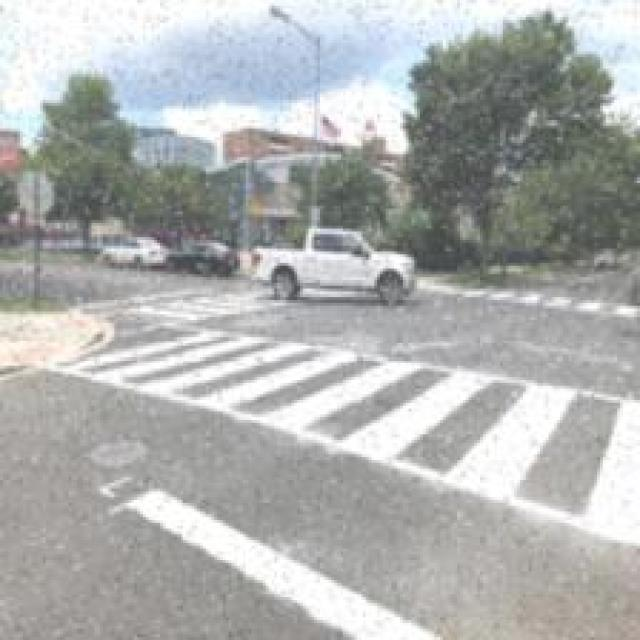crosswalk: (30, 310, 640, 550), (397, 252, 640, 333)
